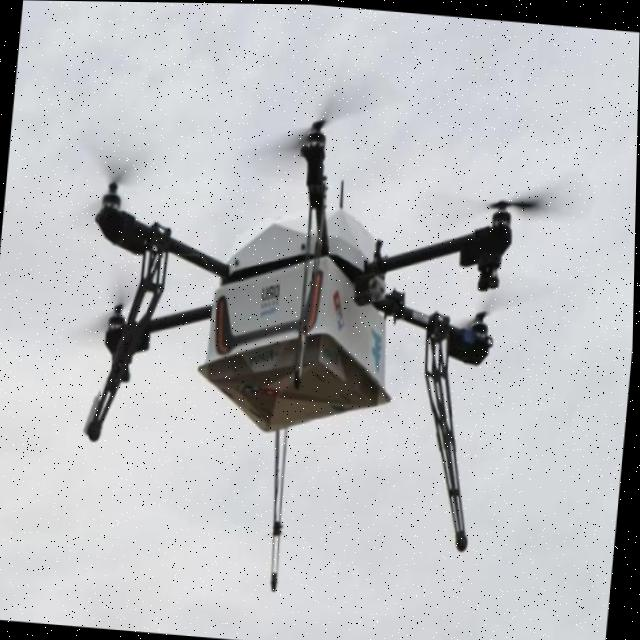drones: (10, 79, 619, 636)
